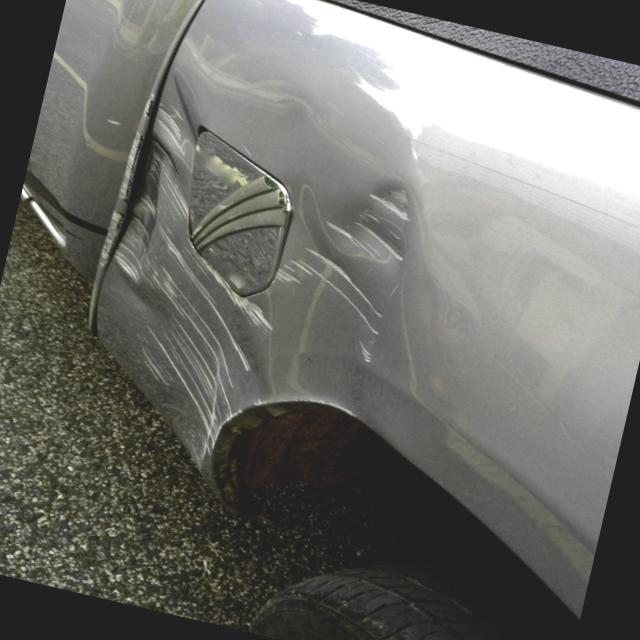Rayure: (43, 221, 284, 489), (249, 118, 446, 386), (125, 95, 208, 238)
